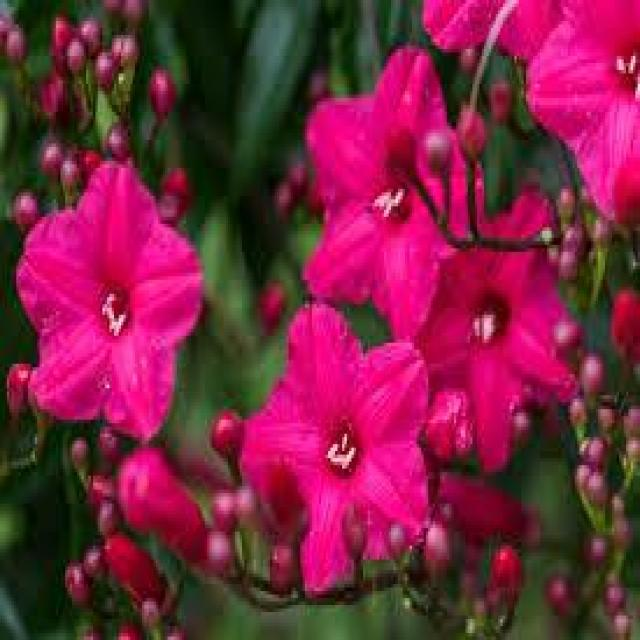organic waste: (253, 295, 434, 593), (18, 163, 196, 432), (293, 46, 461, 304), (413, 212, 578, 464), (528, 0, 637, 234)
